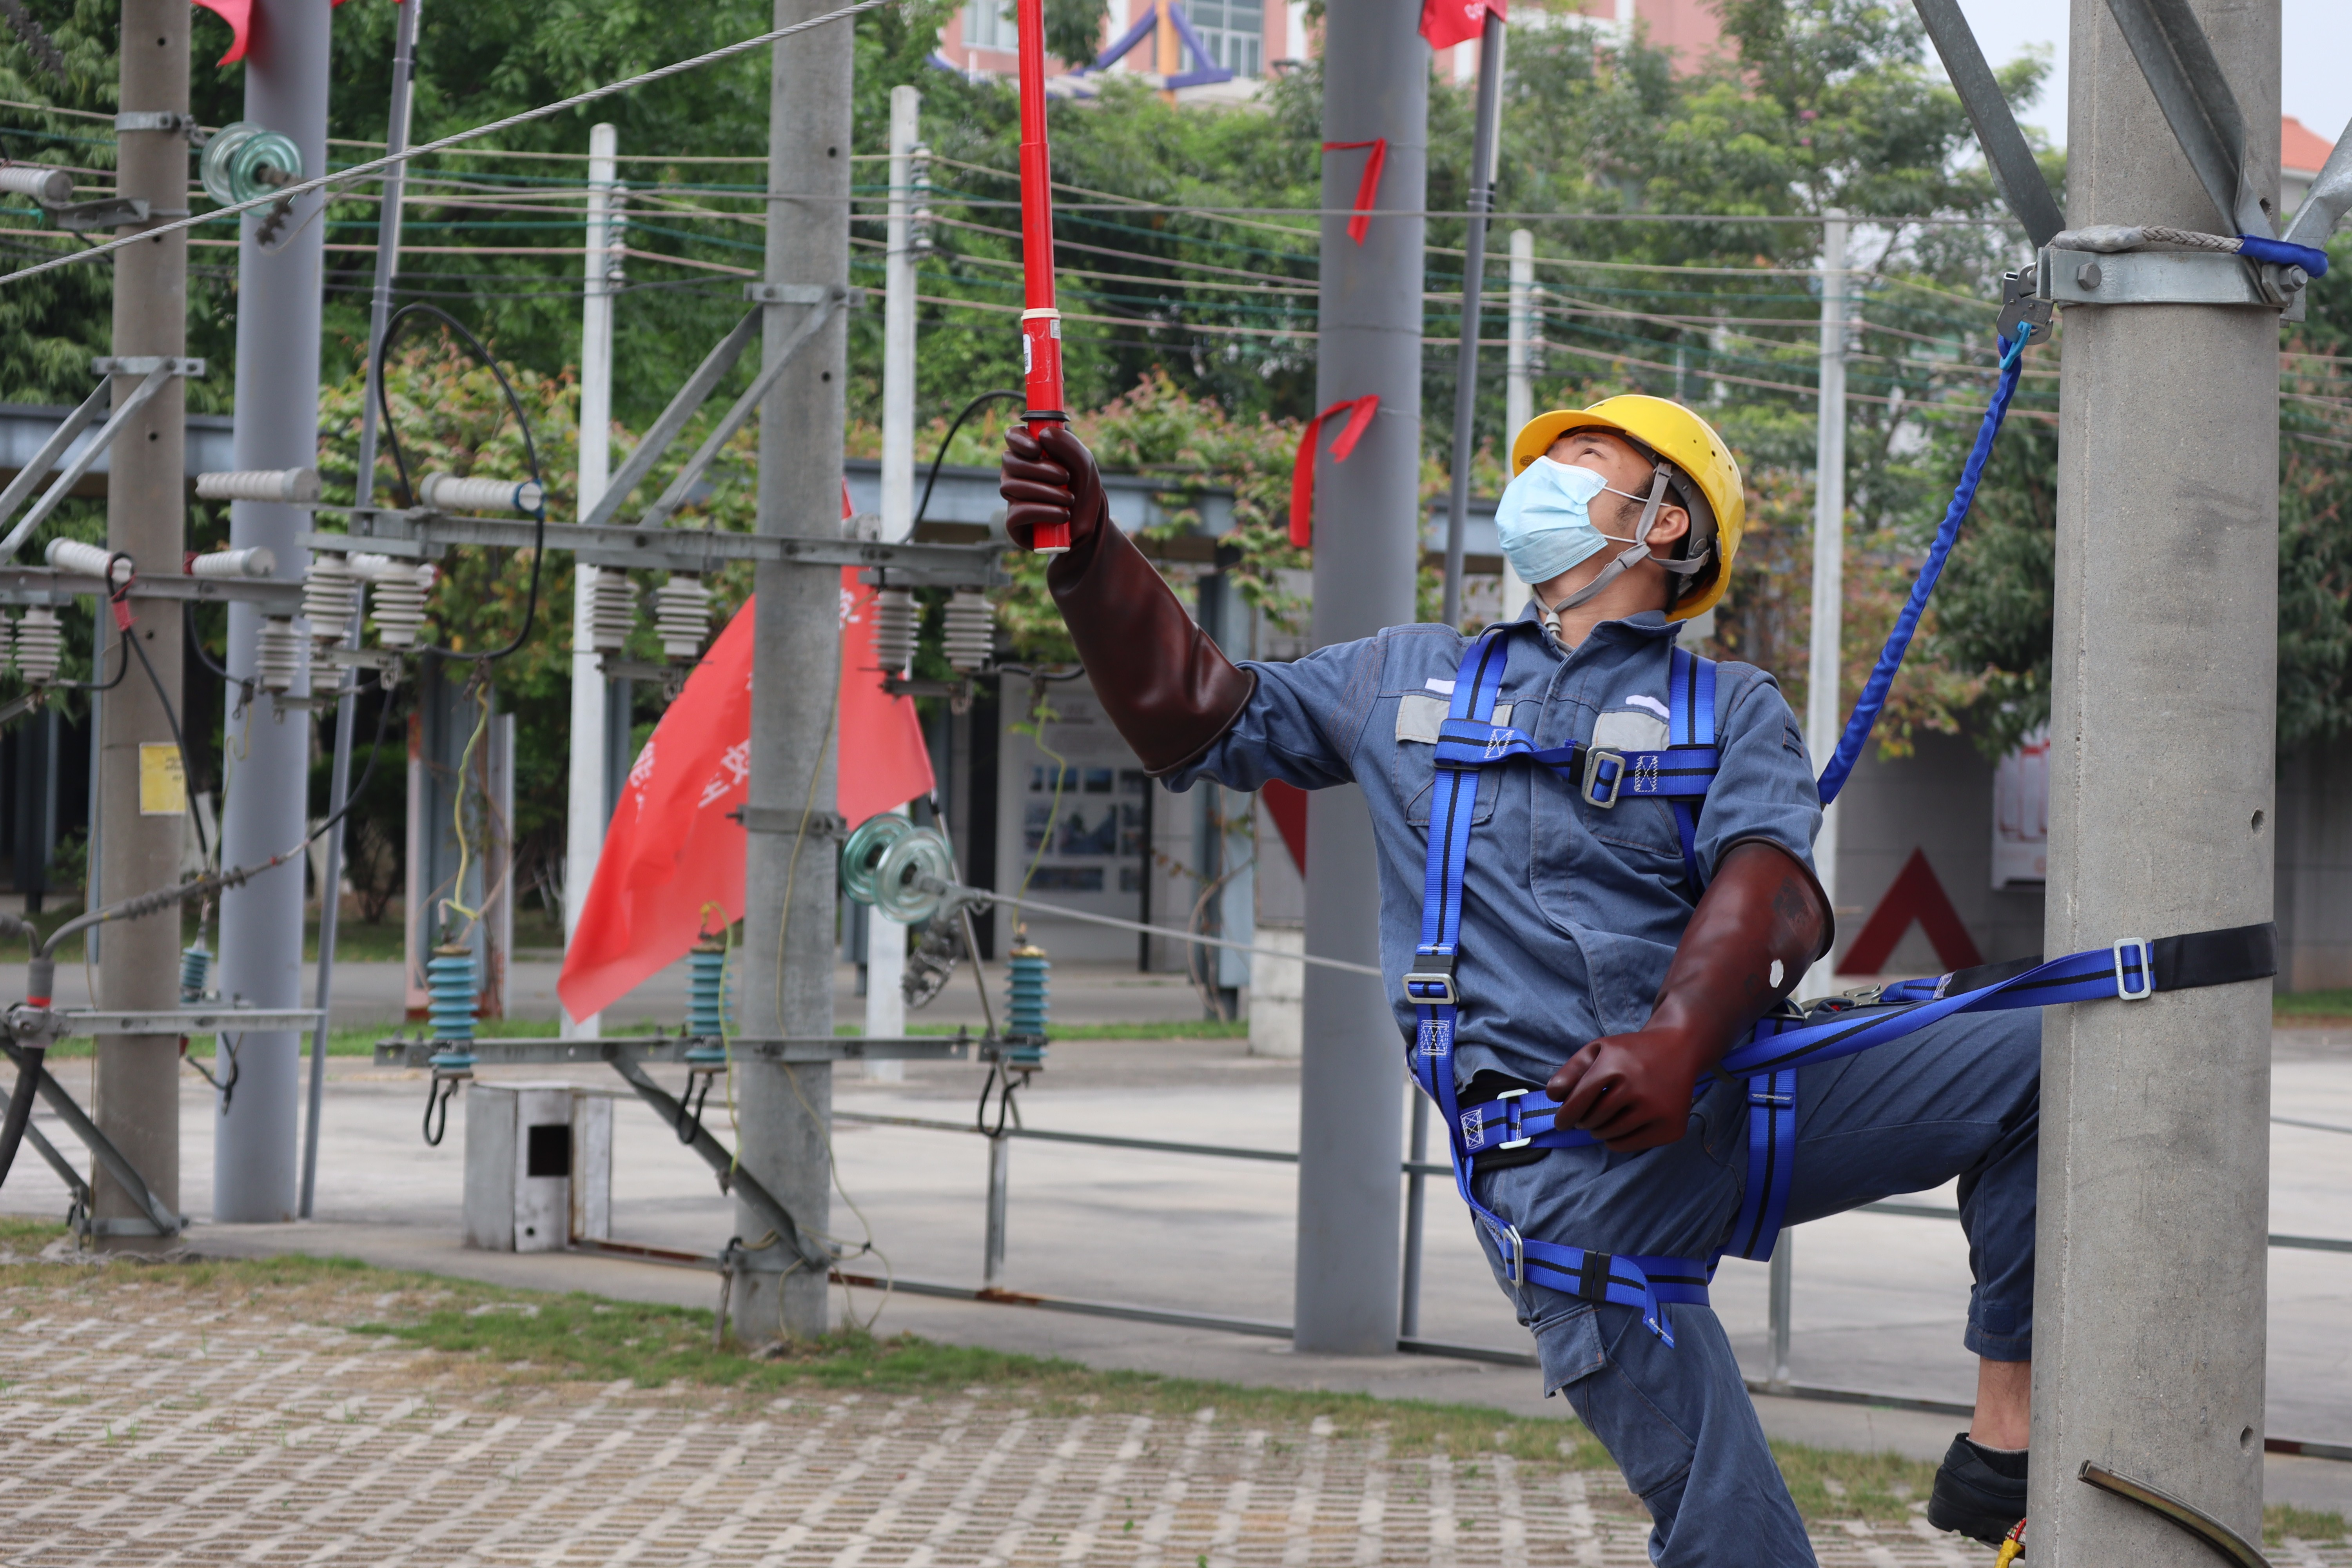downsuit: (1460, 1006, 2051, 1561)
halt: (1488, 384, 1753, 617)
inear: (1619, 466, 1714, 589)
longglove: (1006, 429, 1249, 759), (1570, 847, 1809, 1143)
person: (1026, 369, 1840, 1568)
safebelt: (1408, 207, 2352, 1381)
testrod: (1014, 0, 1074, 559)
upsuit: (1224, 601, 1810, 1067)
